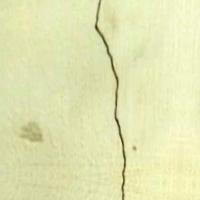crack: (70, 0, 154, 199)
